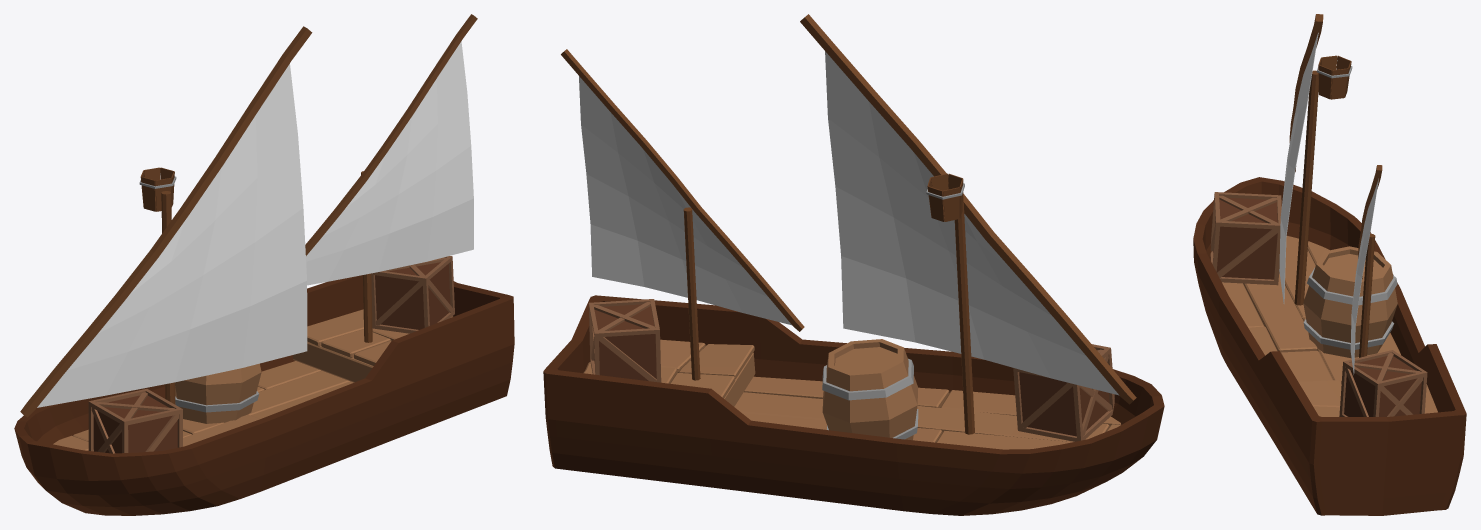
The model's file is bug test ship.fbx.
3 views of the same model, side by side, from view 1: azimuth 30°, elevation 25°; view 2: azimuth 150°, elevation 25°; view 3: azimuth 270°, elevation 25° (orthographic). The views are drawn at different scales.
Parts seen in each view (by area): view 1: Cube.020; view 2: Cube.020; view 3: Cube.020.
Part boxes in pixels (x1,y1,x2,y2): Cube.020: [14, 14, 514, 515]; Cube.020: [543, 14, 1164, 515]; Cube.020: [1193, 14, 1466, 515].
Size of the model in its own units: 398 by 314 by 188.
